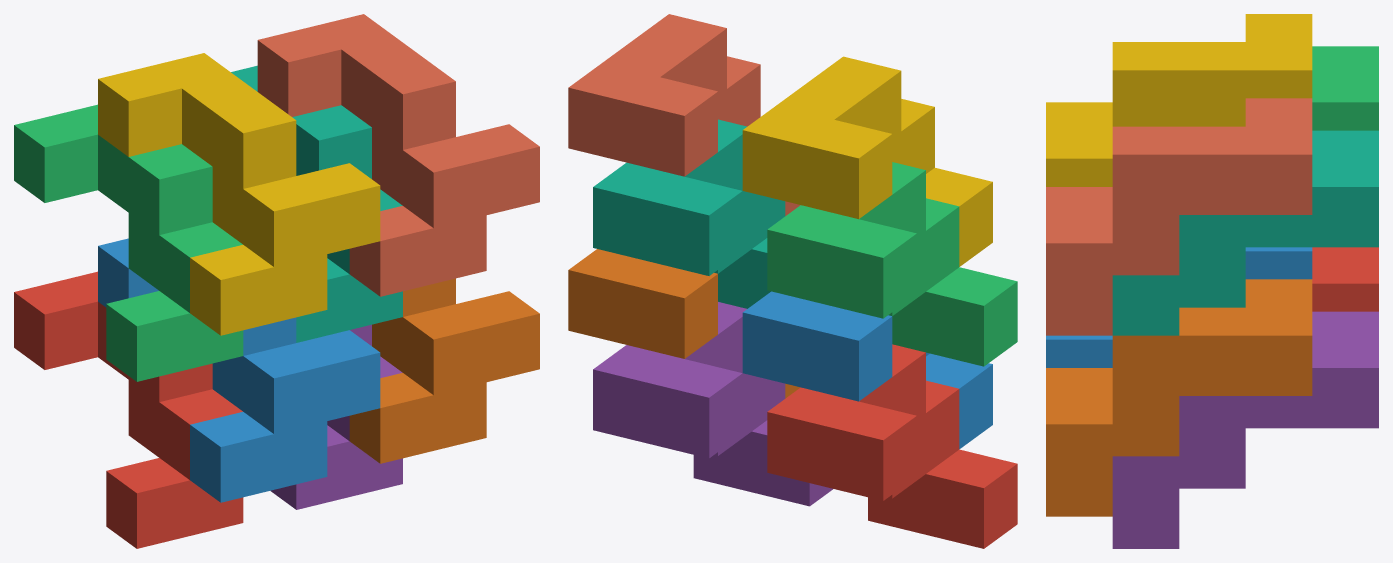
The model's file is tiling.obj.
The picture shows the model from 3 angles, left to right: view 1: azimuth 30°, elevation 25°; view 2: azimuth 150°, elevation 25°; view 3: azimuth 270°, elevation 25°; orthographic projection. The views are drawn at different scales.
Visible parts, largest first — view 1: copy_1_domain_4, copy_1_domain_8, copy_1_domain_3, copy_1_domain_2, copy_1_domain_1, copy_1_domain_6, copy_1_domain_7, copy_1_domain_5; view 2: copy_1_domain_1, copy_1_domain_3, copy_1_domain_4, copy_1_domain_5, copy_1_domain_8, copy_1_domain_7, copy_1_domain_2, copy_1_domain_6; view 3: copy_1_domain_8, copy_1_domain_6, copy_1_domain_4, copy_1_domain_5, copy_1_domain_7, copy_1_domain_3, copy_1_domain_2, copy_1_domain_1.
Boxes of the visible parts, x1,y1,x2,y2 form: copy_1_domain_4: (98,53,380,335); copy_1_domain_8: (257,14,539,296); copy_1_domain_3: (14,104,243,381); copy_1_domain_2: (98,238,380,502); copy_1_domain_1: (14,271,243,548); copy_1_domain_6: (349,278,539,463); copy_1_domain_7: (231,65,402,342); copy_1_domain_5: (270,324,402,509); copy_1_domain_1: (767,344,1017,548); copy_1_domain_3: (767,162,1017,366); copy_1_domain_4: (742,56,992,266); copy_1_domain_5: (593,302,832,506); copy_1_domain_8: (568,14,800,215); copy_1_domain_7: (593,119,785,308); copy_1_domain_2: (742,291,992,449); copy_1_domain_6: (568,249,800,398); copy_1_domain_8: (1046,98,1312,335); copy_1_domain_6: (1046,279,1312,516); copy_1_domain_4: (1046,14,1312,186); copy_1_domain_5: (1112,311,1378,548); copy_1_domain_7: (1112,130,1378,335); copy_1_domain_3: (1312,46,1378,130); copy_1_domain_2: (1046,247,1312,367); copy_1_domain_1: (1312,247,1378,311).
Size of the model in its own units: 7 by 7 by 5.
